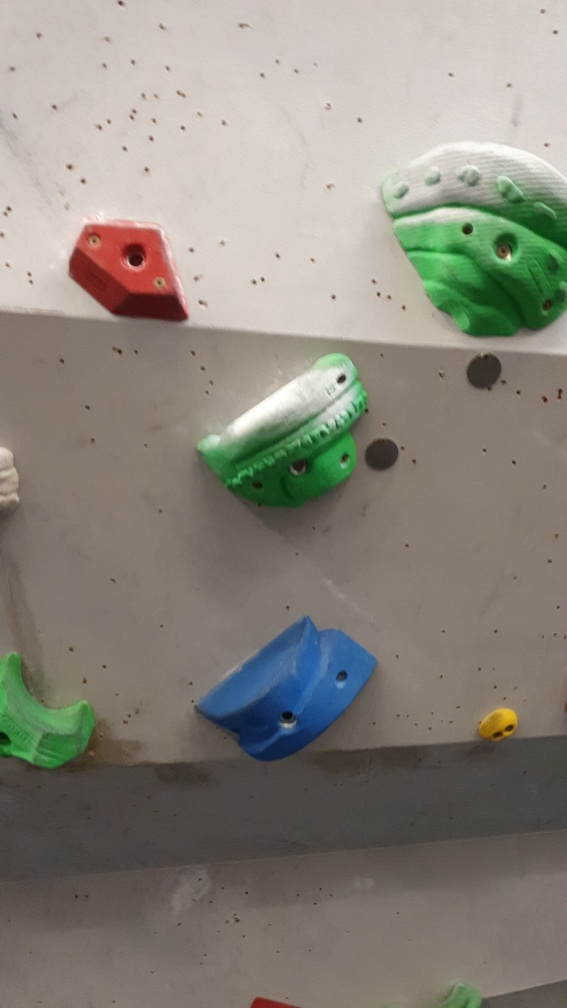Crimp: (62, 210, 196, 331)
Hand Start: (461, 347, 509, 395), (361, 428, 402, 480)
Jug: (377, 131, 567, 349), (194, 352, 371, 505), (1, 647, 101, 778)
Pinch: (190, 609, 385, 769)
